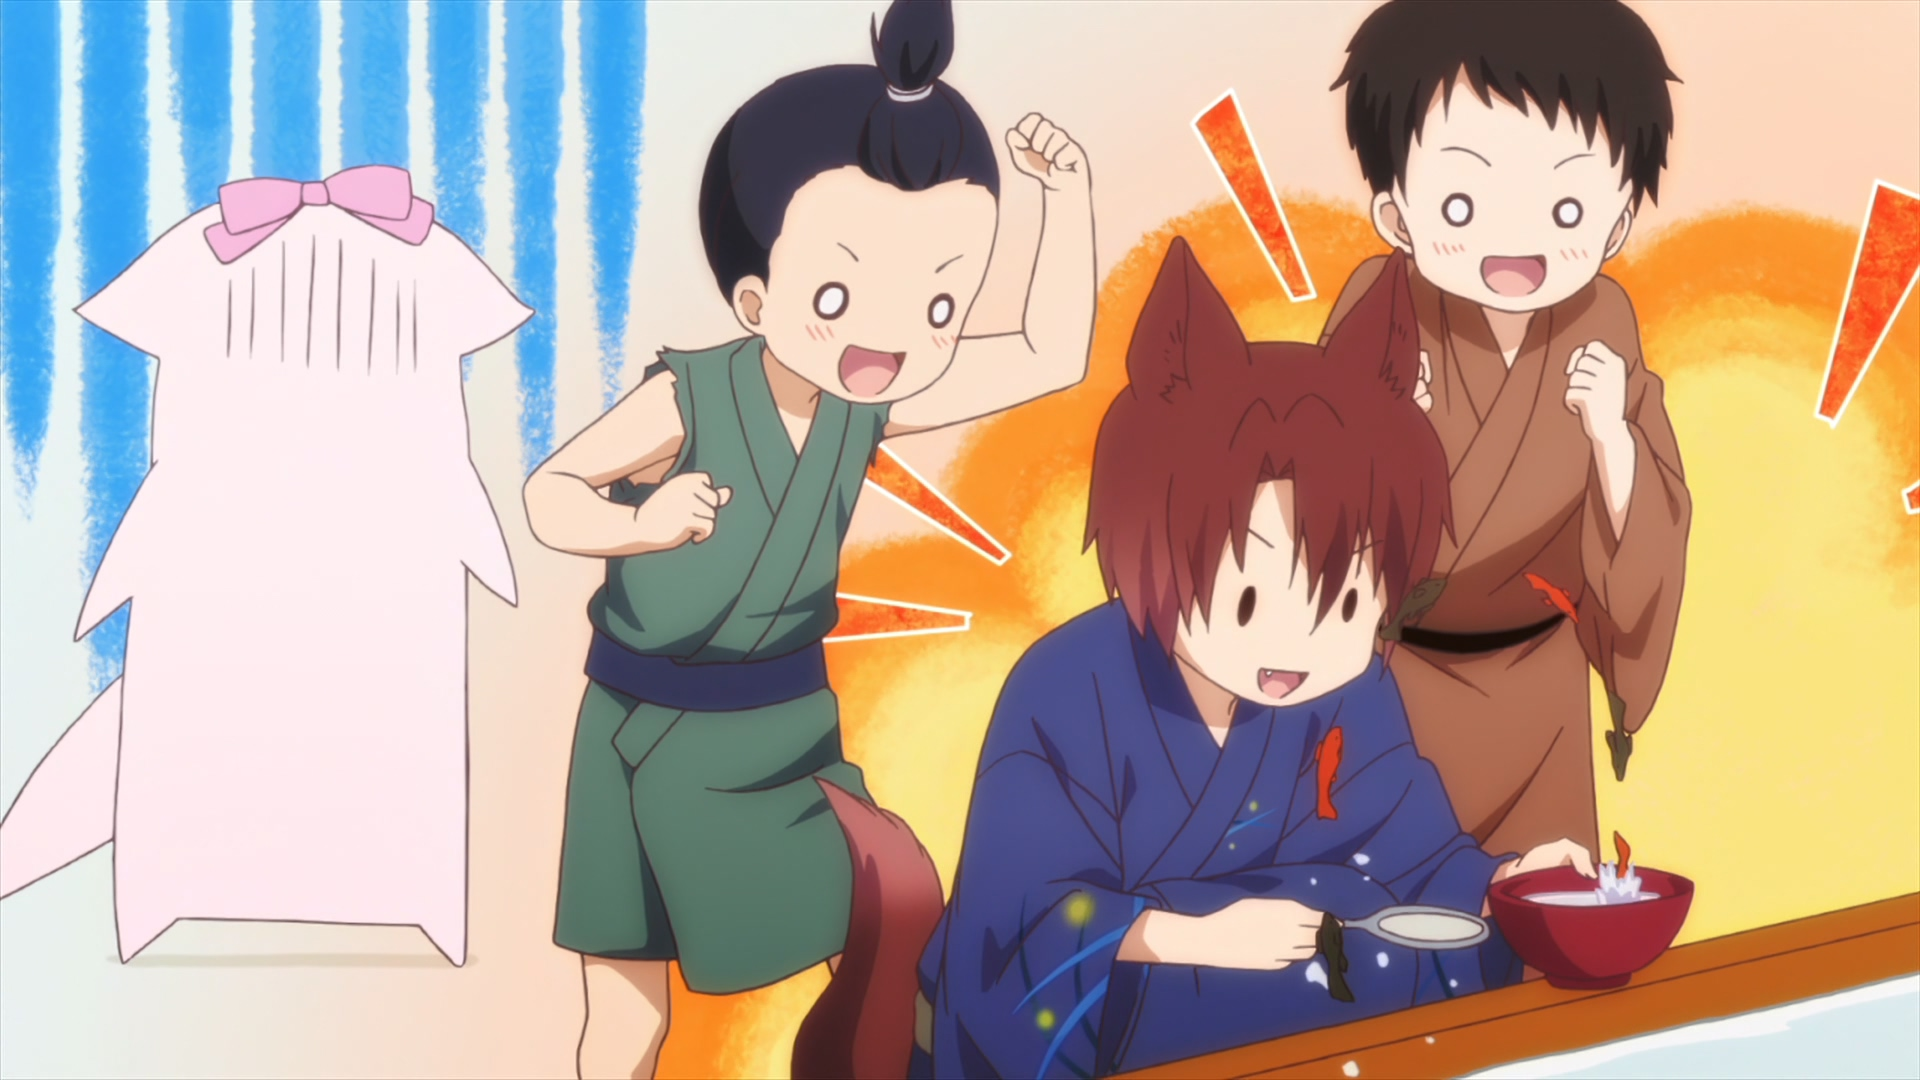其他: (522, 1, 1096, 1080), (1313, 1, 1692, 920)
枣: (790, 235, 1526, 1080)
莲: (1, 164, 533, 969)
